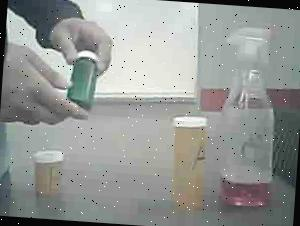Bottle A: (164, 112, 212, 217)
Bottle B: (26, 144, 74, 205)
Bottle C: (66, 48, 104, 118)
hazard: (212, 20, 288, 213)
